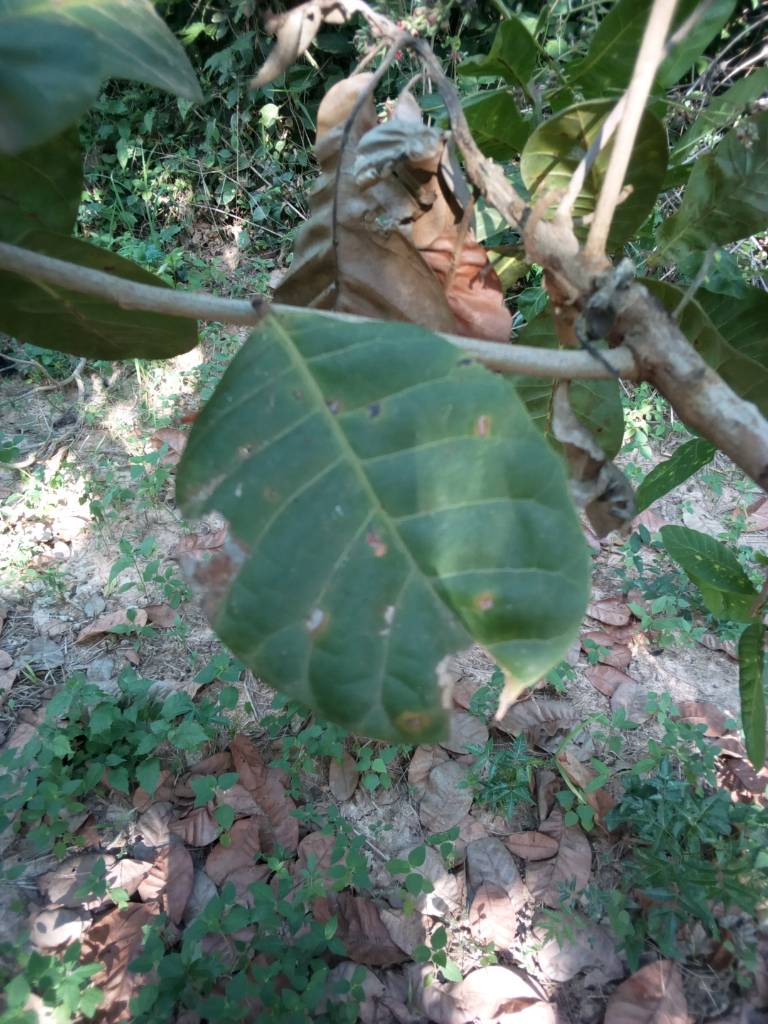Dessèchement des bourgeons: (288, 27, 493, 301)
